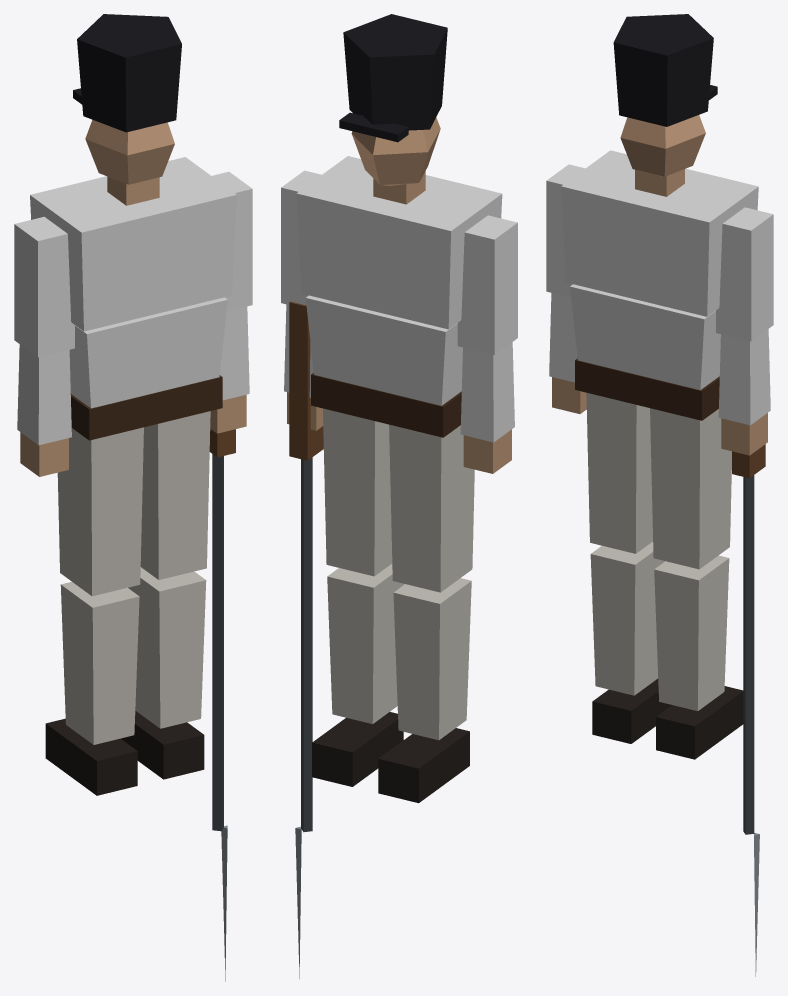
The model's file is soldier_c19_line_lod1.glb.
3 renders of one model, left to right at view 1: azimuth 30°, elevation 25°; view 2: azimuth 150°, elevation 25°; view 3: azimuth 330°, elevation 25°, orthographic. The views are drawn at different scales.
Parts seen in each view (by area): view 1: c19_line_lod1_static; view 2: c19_line_lod1_static; view 3: c19_line_lod1_static.
Part boxes in pixels (left/top/right/bottom): c19_line_lod1_static: left=14, top=14, right=252, bottom=981; c19_line_lod1_static: left=281, top=14, right=517, bottom=978; c19_line_lod1_static: left=546, top=14, right=773, bottom=976.
Size of the model in its own units: 0.58 by 2.51 by 0.2807.
